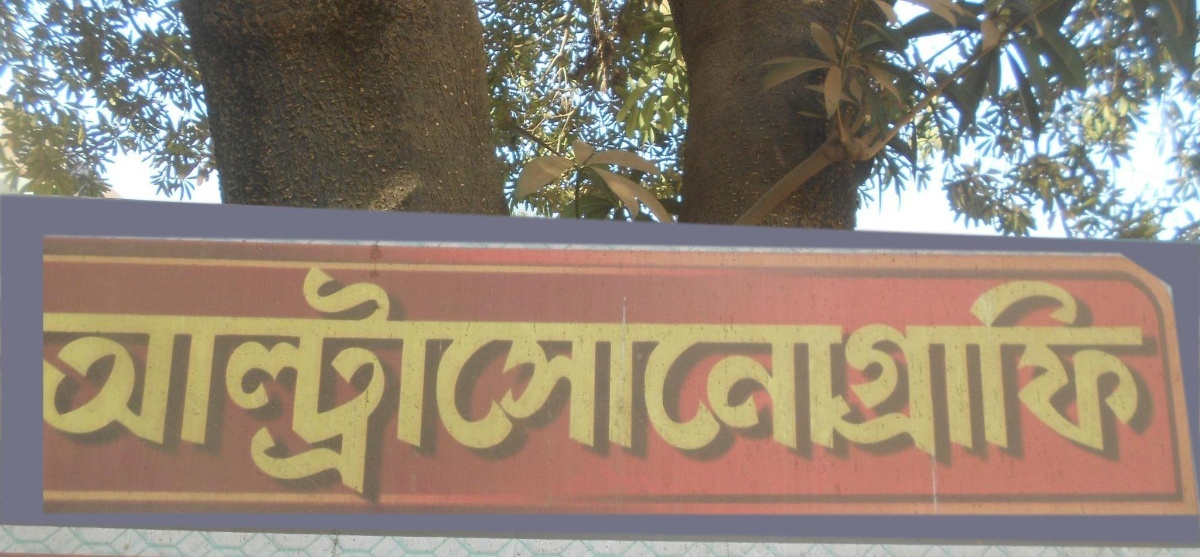text: (49, 263, 64, 502), (65, 263, 80, 502), (81, 263, 96, 502), (97, 263, 112, 502), (113, 263, 128, 502), (129, 263, 144, 502), (145, 263, 160, 502), (161, 263, 176, 502), (177, 263, 192, 502), (193, 263, 208, 502), (209, 263, 224, 502), (225, 263, 240, 502), (241, 263, 256, 502), (257, 263, 272, 502), (273, 263, 288, 502), (289, 263, 304, 502), (305, 263, 320, 502), (321, 263, 336, 502), (337, 263, 352, 502), (353, 263, 368, 502), (369, 263, 384, 502), (385, 263, 400, 502), (401, 263, 416, 502), (417, 263, 432, 502), (433, 263, 448, 502), (449, 263, 464, 502), (465, 263, 480, 502), (481, 263, 496, 502), (497, 263, 512, 502), (513, 263, 528, 502), (529, 263, 544, 502), (545, 263, 560, 502), (561, 263, 576, 502), (577, 263, 592, 502), (593, 263, 608, 502), (609, 263, 624, 502), (625, 263, 640, 502), (641, 263, 656, 502), (657, 263, 672, 502), (673, 263, 688, 502), (689, 263, 704, 502), (705, 263, 720, 502), (721, 263, 736, 502), (737, 263, 752, 502), (753, 263, 768, 502), (769, 263, 784, 502), (785, 263, 800, 502), (801, 263, 816, 502), (817, 263, 832, 502), (833, 263, 848, 502), (849, 263, 864, 502), (865, 263, 880, 502), (881, 263, 896, 502), (897, 263, 912, 502), (913, 263, 928, 502), (929, 263, 944, 502), (945, 263, 960, 502), (961, 263, 976, 502), (977, 263, 992, 502), (993, 263, 1008, 502), (1009, 263, 1024, 502), (1025, 263, 1040, 502), (1041, 263, 1056, 502), (1057, 263, 1072, 502), (1073, 263, 1088, 502), (1089, 263, 1104, 502), (1105, 263, 1120, 502), (1121, 263, 1136, 502), (1137, 263, 1152, 502), (40, 263, 48, 502), (1153, 263, 1159, 502)
